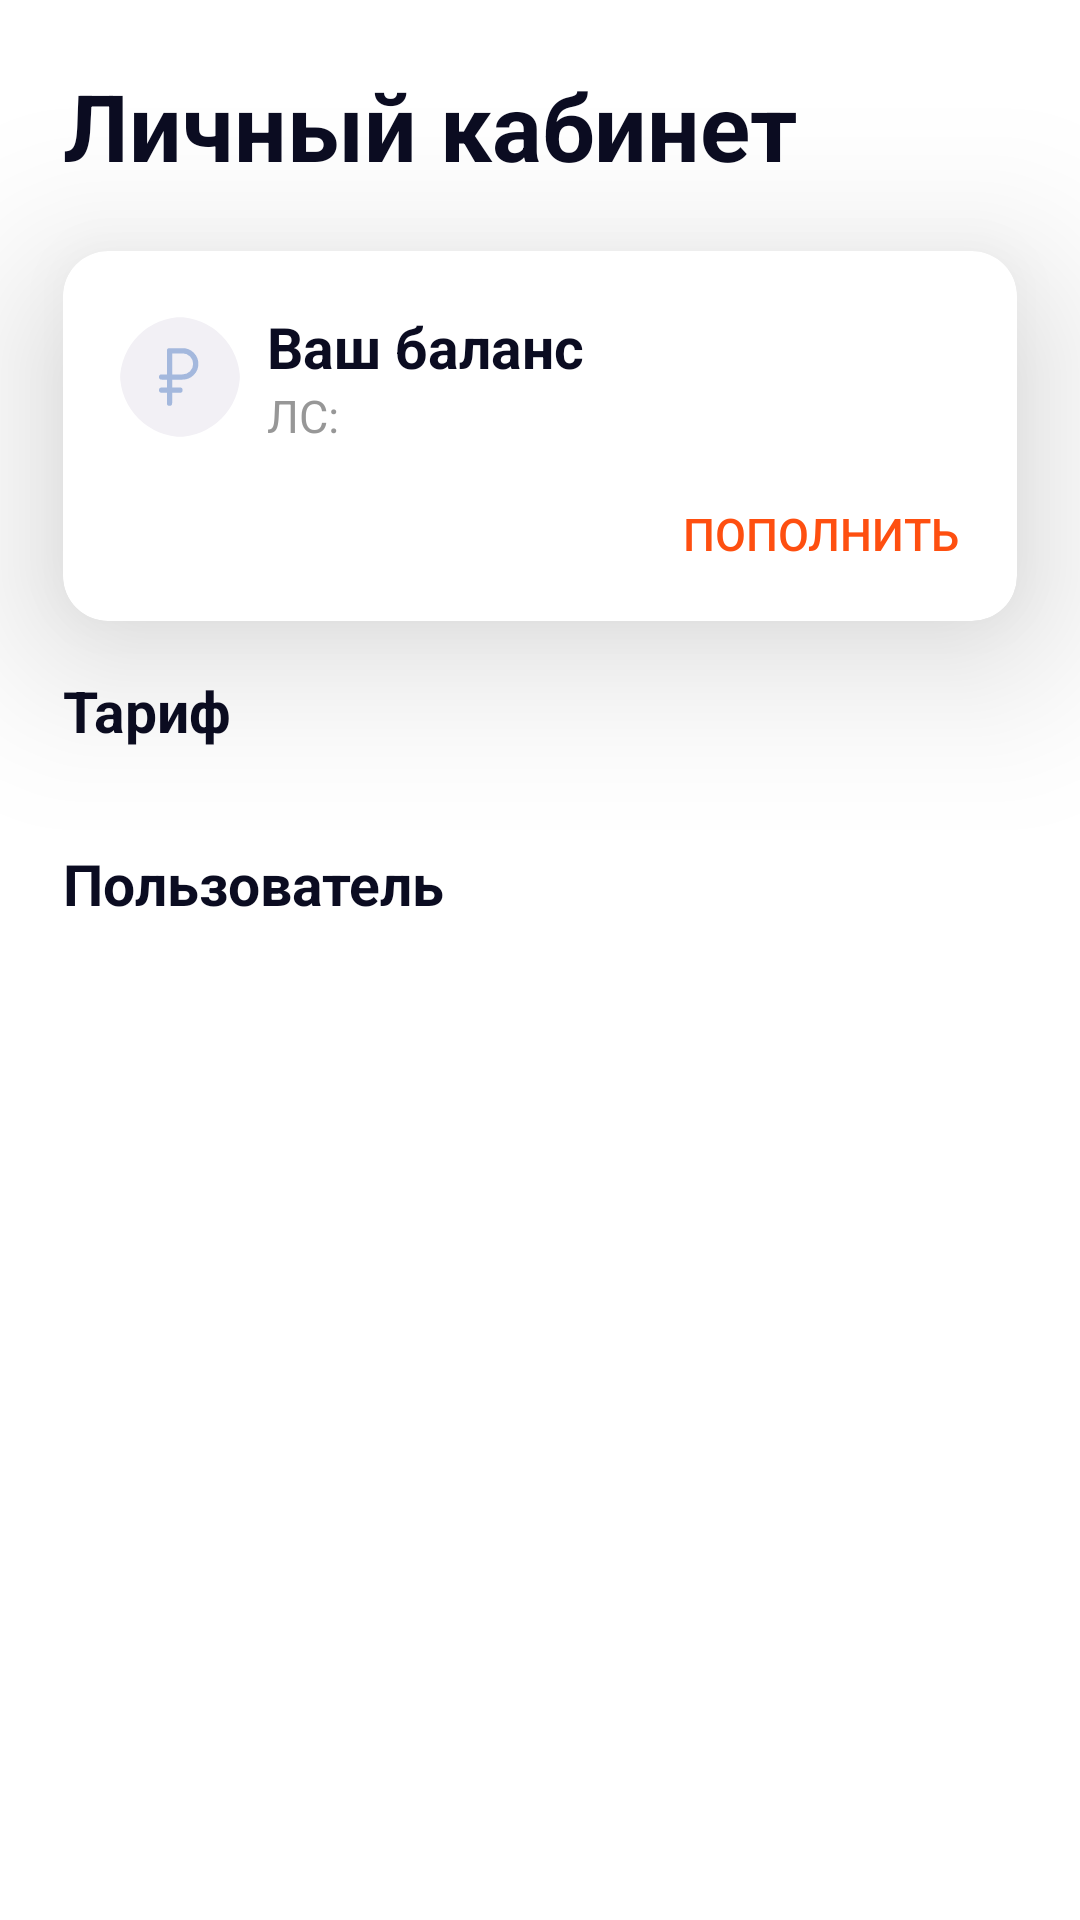

Point at icon controls on the screen. Image size 1080x1920, points as point (x, y).
ruble: point (180, 377)
